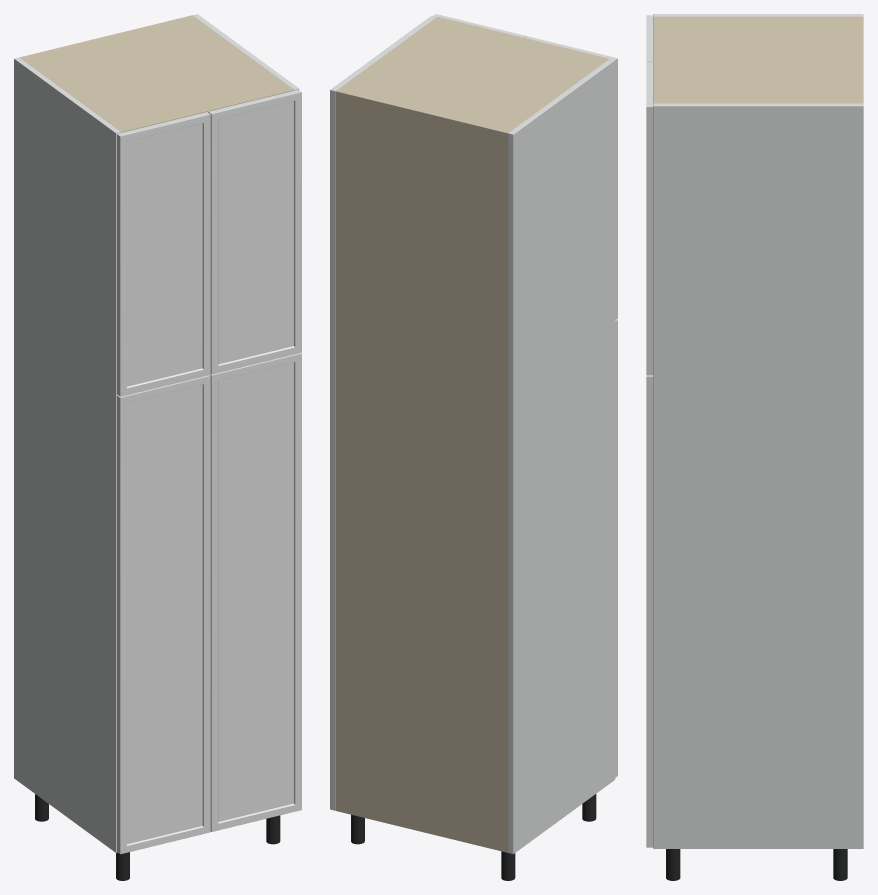
File: oppein-ply-ssw-pc2490.glb
3 renders of one model, left to right at view 1: azimuth 30°, elevation 25°; view 2: azimuth 150°, elevation 25°; view 3: azimuth 270°, elevation 25°, orthographic. The views are drawn at different scales.
Visible parts, largest first — view 1: Cabinet side, Door, Door.001, Door.002, Door.003, Cabinet top, Cabinet side.001; view 2: Cabinet back, Cabinet side, Cabinet top, Cabinet side.001, Door, Door.002, Cabinet bottom; view 3: Cabinet side.001, Cabinet top, Door.001, Door.003, Cabinet side, Adjustable foot.003, Adjustable foot.002.
Boxes of the visible parts, x1,y1,x2,y2 form: Cabinet side: [14, 57, 121, 852]; Door: [117, 375, 210, 854]; Door.001: [210, 353, 301, 831]; Door.002: [117, 112, 210, 396]; Door.003: [208, 89, 301, 374]; Cabinet top: [21, 16, 293, 132]; Cabinet side.001: [192, 14, 299, 90]; Cabinet back: [335, 89, 509, 852]; Cabinet side: [508, 59, 615, 854]; Cabinet top: [336, 16, 609, 138]; Cabinet side.001: [330, 15, 436, 810]; Door: [615, 319, 617, 777]; Door.002: [525, 36, 617, 319]; Cabinet bottom: [335, 805, 507, 852]; Cabinet side.001: [653, 103, 863, 848]; Cabinet top: [653, 16, 859, 103]; Door.001: [646, 375, 653, 847]; Door.003: [646, 61, 653, 375]; Cabinet side: [653, 14, 863, 16]; Adjustable foot.003: [666, 849, 680, 880]; Adjustable foot.002: [833, 849, 847, 880].
Bounding box in the file's own units: 0.6096 × 2.4 × 0.6064.
